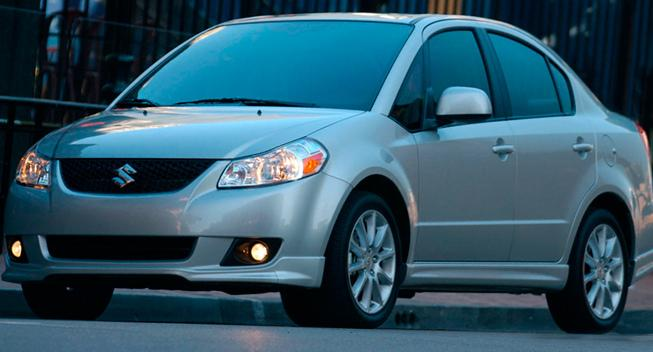suzuki: (109, 161, 138, 190)
